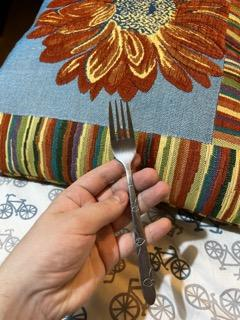fork: (105, 99, 159, 306)
